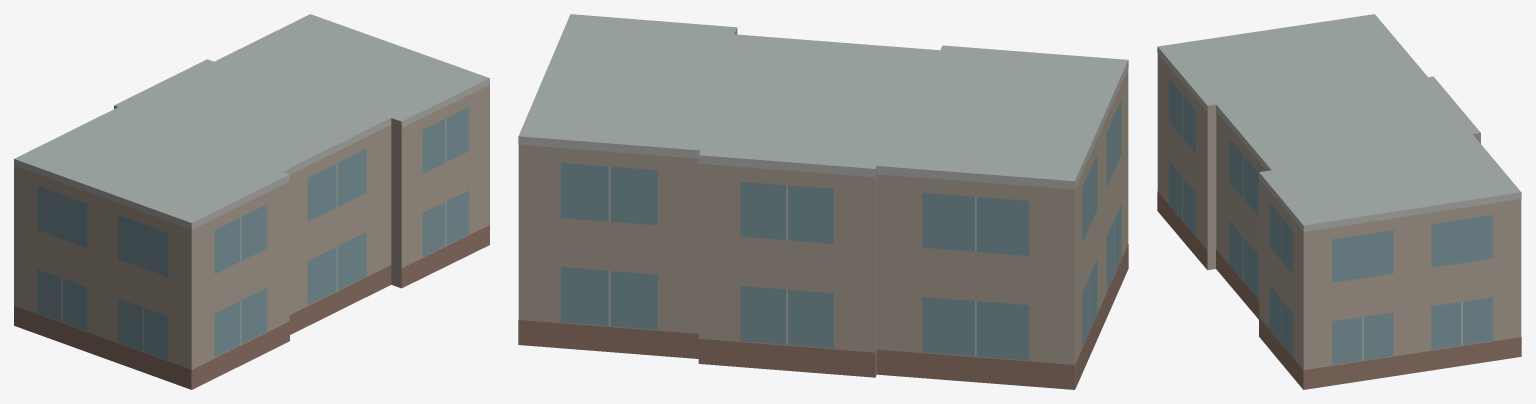
File: survey-upis-33012982.glb
The picture shows the model from 3 angles, left to right: view 1: azimuth 30°, elevation 25°; view 2: azimuth 150°, elevation 25°; view 3: azimuth 270°, elevation 25°; orthographic projection. The views are drawn at different scales.
Parts seen in each view (by area): view 1: survey-upis-33012982.tmp; view 2: survey-upis-33012982.tmp; view 3: survey-upis-33012982.tmp.
Part boxes in pixels (bbox=[...]): survey-upis-33012982.tmp: bbox=[14, 14, 489, 389]; survey-upis-33012982.tmp: bbox=[518, 14, 1128, 389]; survey-upis-33012982.tmp: bbox=[1157, 14, 1521, 389].
Bounding box in the file's own units: 16.83 × 6.1 × 12.25.
